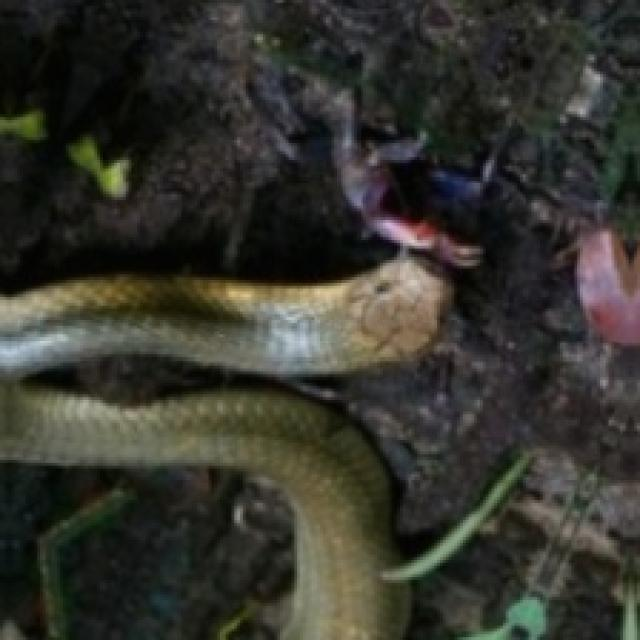king cobra: (0, 254, 449, 637)
